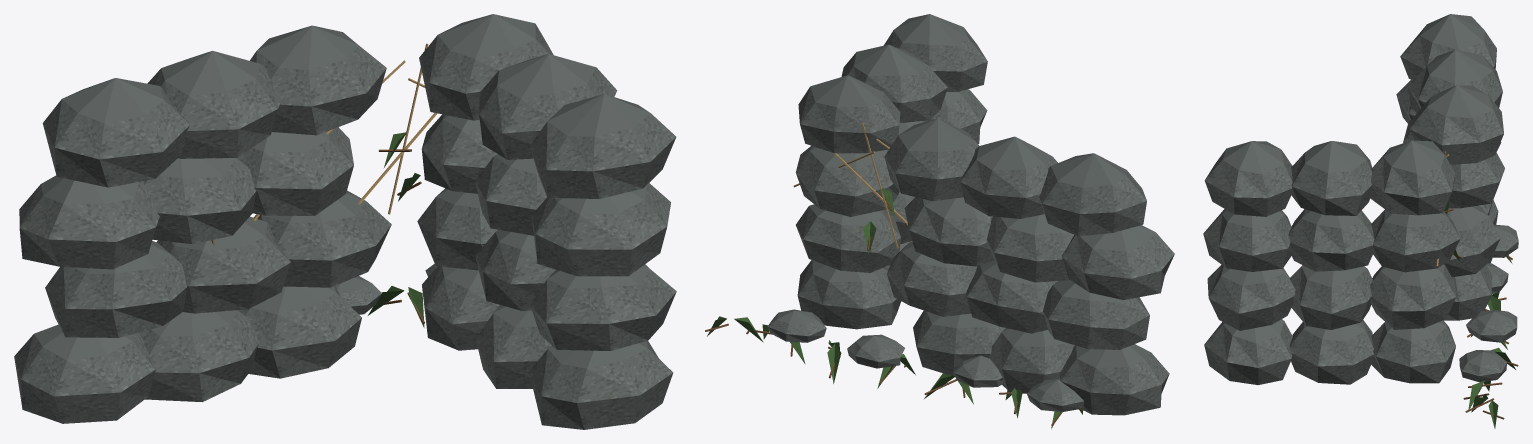
File: en-014_cave_wall_module__corner.obj
3 views of the same model, side by side, from view 1: azimuth 30°, elevation 25°; view 2: azimuth 150°, elevation 25°; view 3: azimuth 270°, elevation 25° (orthographic). The views are drawn at different scales.
Parts seen in each view (by area): view 1: en-014_cave_wall_module__corner; view 2: en-014_cave_wall_module__corner; view 3: en-014_cave_wall_module__corner.
Boxes of the visible parts, x1,y1,x2,y2 form: en-014_cave_wall_module__corner: (14, 14, 676, 429); en-014_cave_wall_module__corner: (705, 14, 1174, 429); en-014_cave_wall_module__corner: (1203, 14, 1518, 428).
Bounding box in the file's own units: 3.35 × 1.94 × 2.2.
Materials: 4 (4 with a texture image).
